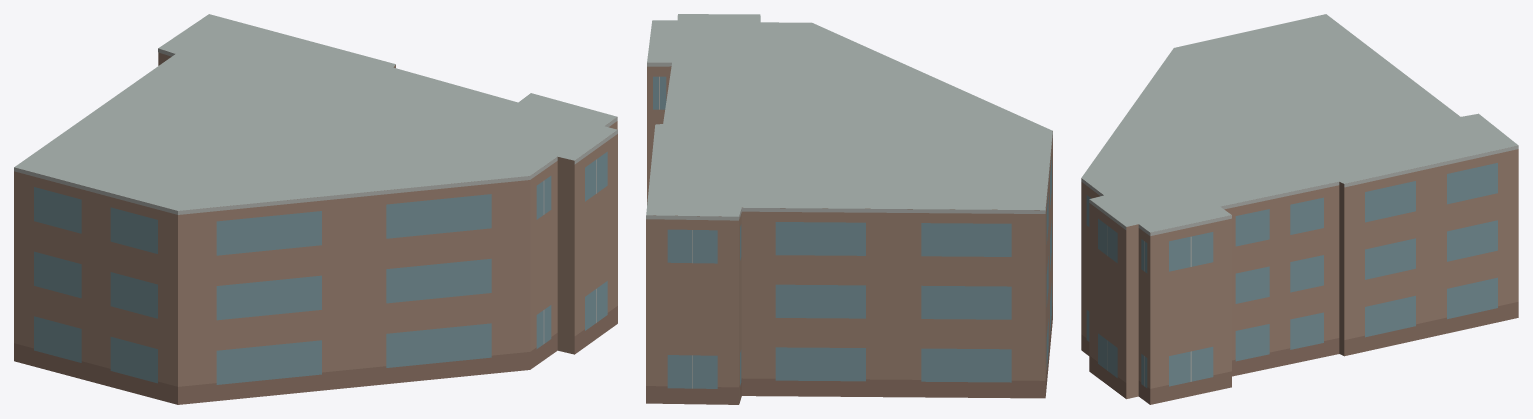
The model's file is survey-upis-32683074.glb.
The picture shows the model from 3 angles, left to right: view 1: azimuth 30°, elevation 25°; view 2: azimuth 150°, elevation 25°; view 3: azimuth 270°, elevation 25°; orthographic projection. The views are drawn at different scales.
Visible parts, largest first — view 1: survey-upis-32683074.tmp; view 2: survey-upis-32683074.tmp; view 3: survey-upis-32683074.tmp.
Boxes of the visible parts, x1,y1,x2,y2 form: survey-upis-32683074.tmp: (14, 14, 617, 404); survey-upis-32683074.tmp: (646, 14, 1052, 404); survey-upis-32683074.tmp: (1081, 14, 1518, 404).
Size of the model in its own units: 32.12 by 11.8 by 27.16.
